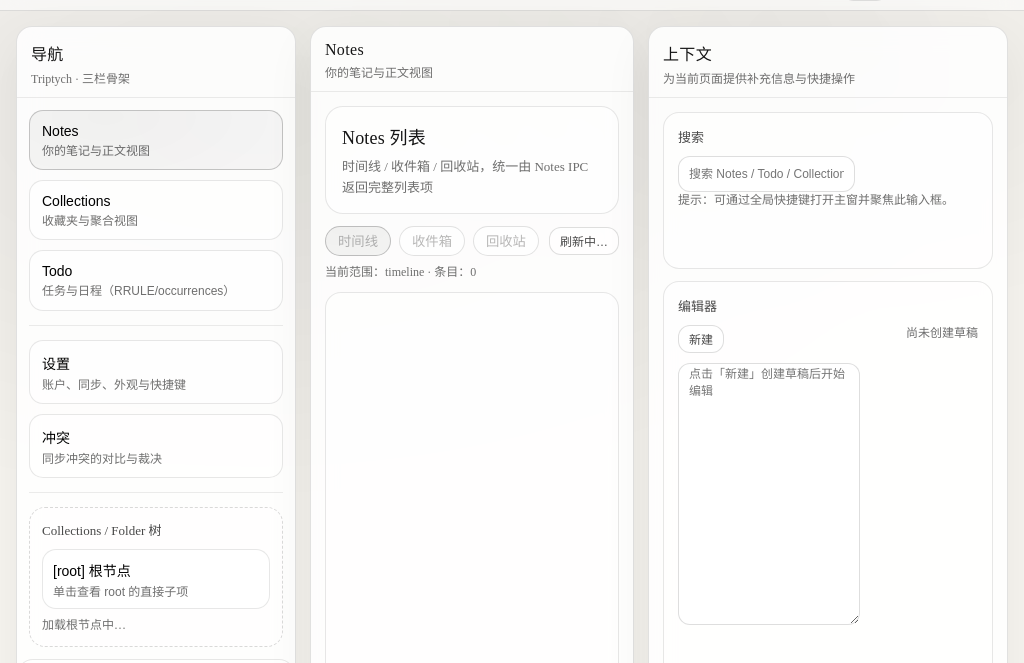
<App /> › 冲突中心：force_overwrite 必须二次确认后才执行
Click the button with test id "nav-conflicts". click: (156, 446)
box: top-left (29, 414), bottom-right (283, 478)
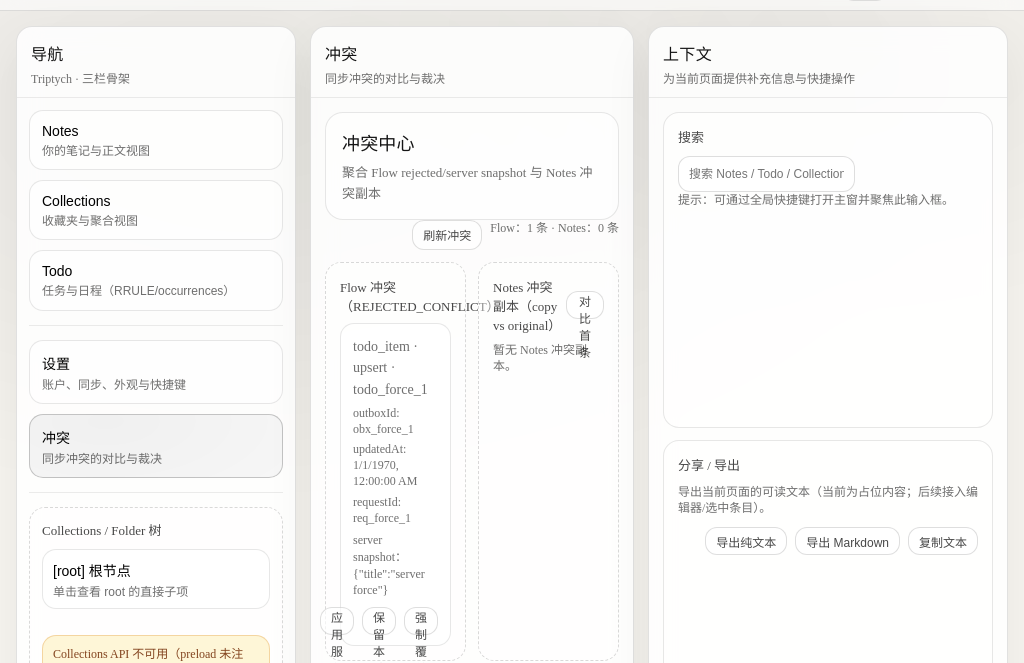
Click the button with test id "conflicts-flow-force-overwrite-obx_force_1". click: (421, 621)
box: top-left (404, 607), bottom-right (438, 635)
(page scrolled)
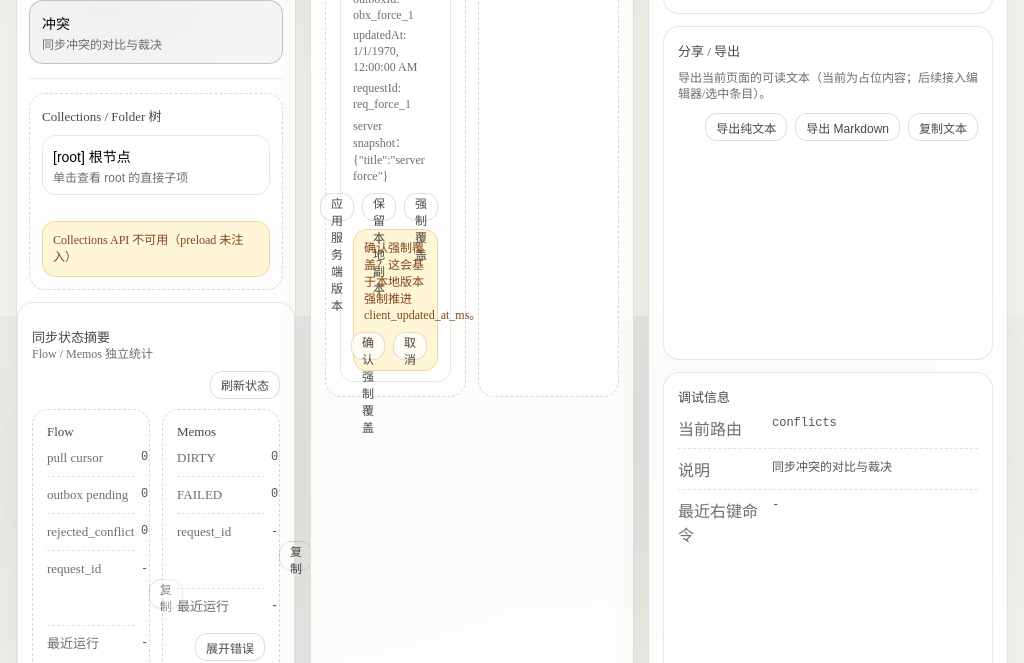
Check: the element with test id "conflicts-flow-force-confirm-panel-obx_force_1" is shown, box top-left (353, 229), bottom-right (438, 371)
Click the button with test id "conflicts-flow-force-confirm-obx_force_1". click: (368, 346)
box: top-left (351, 332), bottom-right (385, 360)
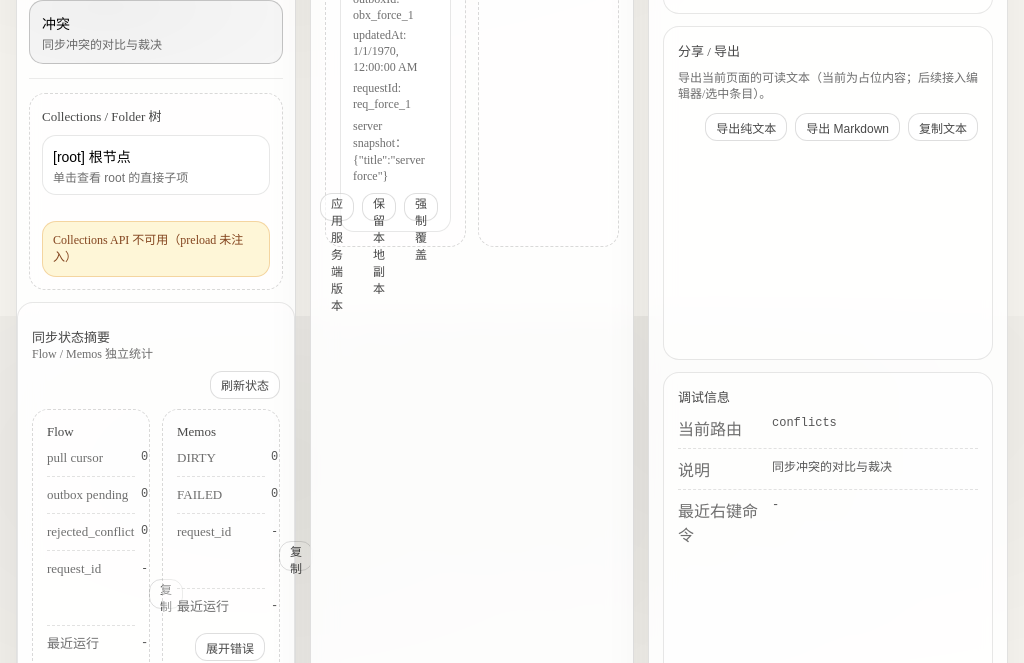
Check: the element with test id "conflicts-flow-force-confirm-panel-obx_force_1" is gone
